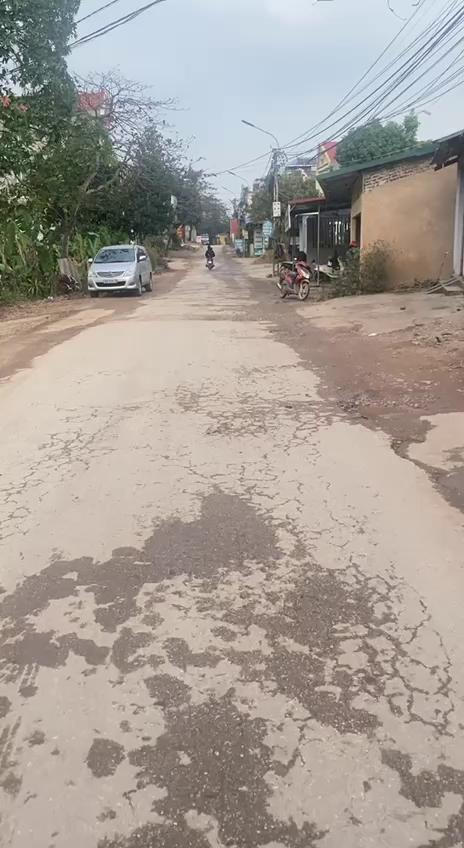pothole: (140, 695, 326, 848), (280, 560, 367, 692), (389, 434, 464, 495), (335, 386, 405, 418)
